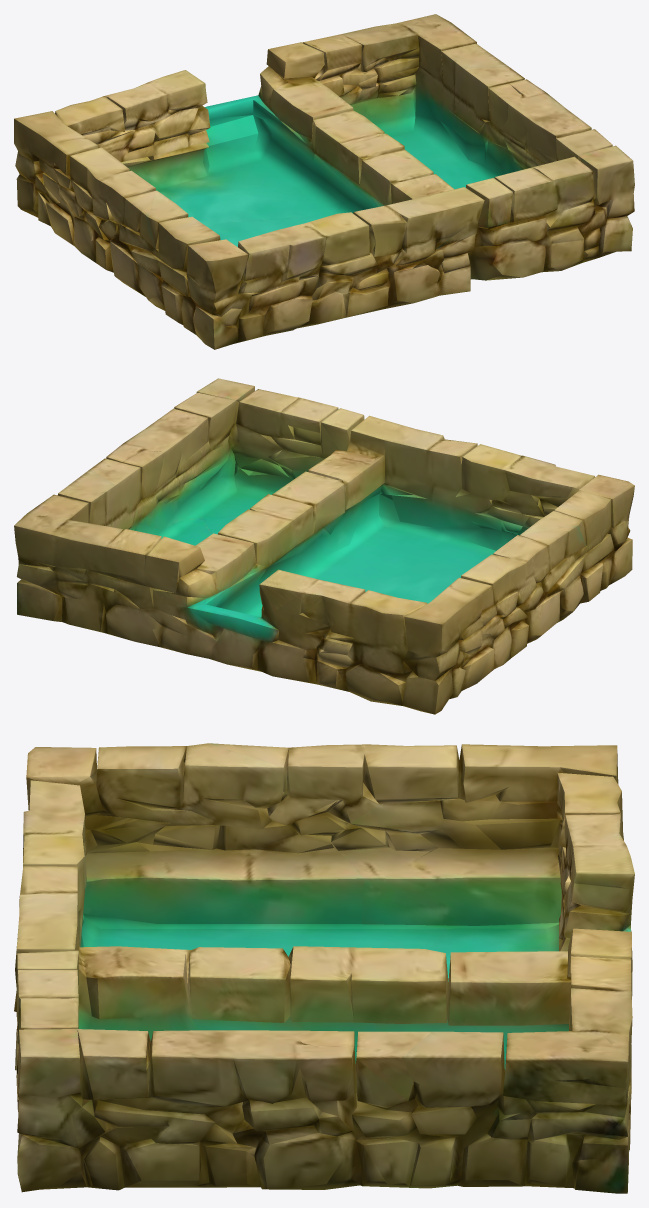
The model's file is m2RuinChannel.glb.
3 renders of one model, top to bottom at view 1: azimuth 30°, elevation 25°; view 2: azimuth 150°, elevation 25°; view 3: azimuth 270°, elevation 25°, orthographic. The views are drawn at different scales.
Visible parts, largest first — view 1: model; view 2: model; view 3: model.
Part boxes in pixels (bbox=[...]): model: bbox=[14, 14, 634, 349]; model: bbox=[14, 378, 634, 714]; model: bbox=[14, 743, 634, 1193].
Bounding box in the file's own units: 1.9 × 0.4231 × 1.58.
1 material, 1 textured.
